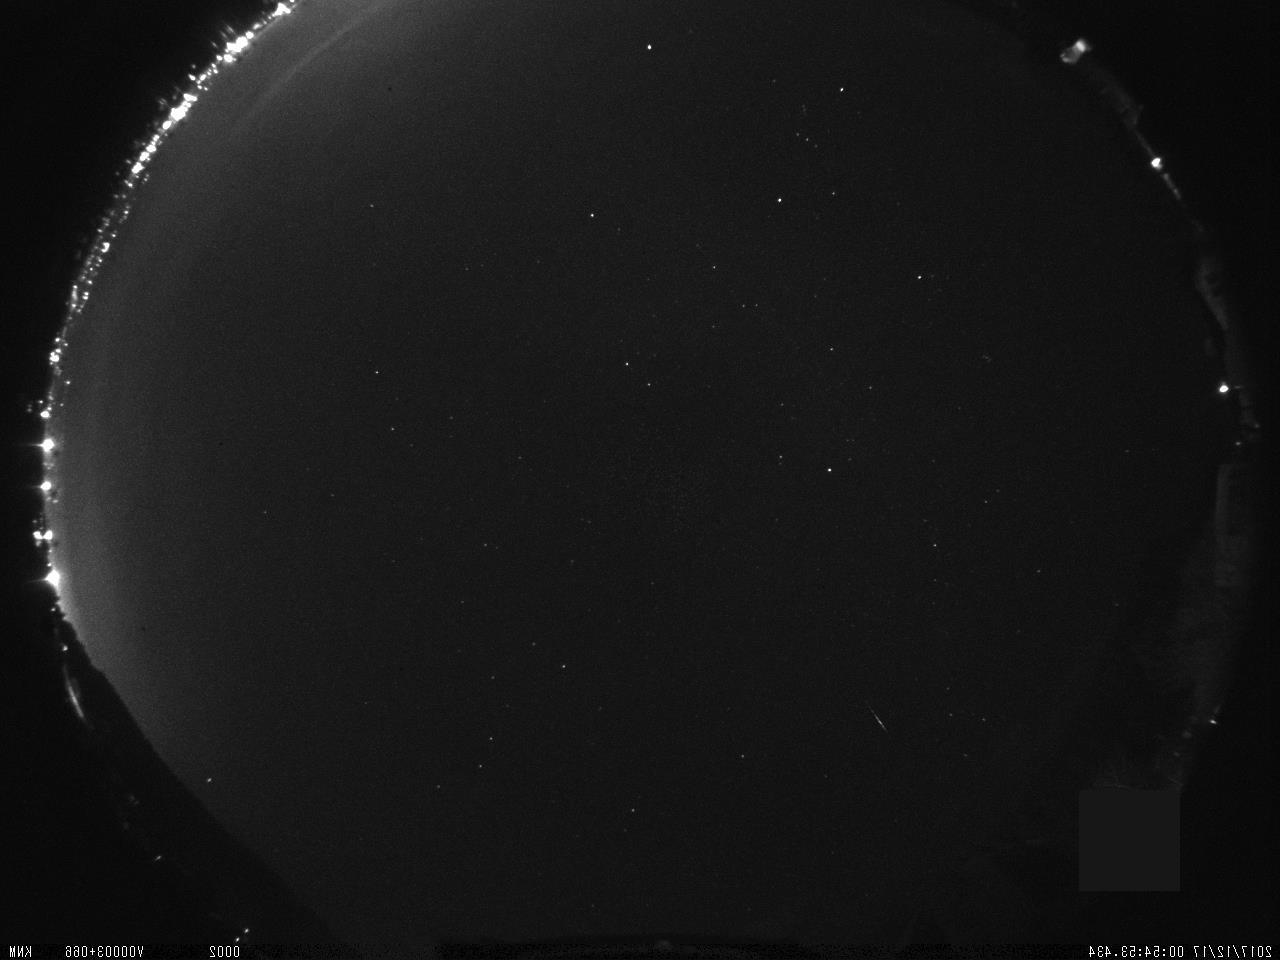meteor: (859, 699, 892, 736)
